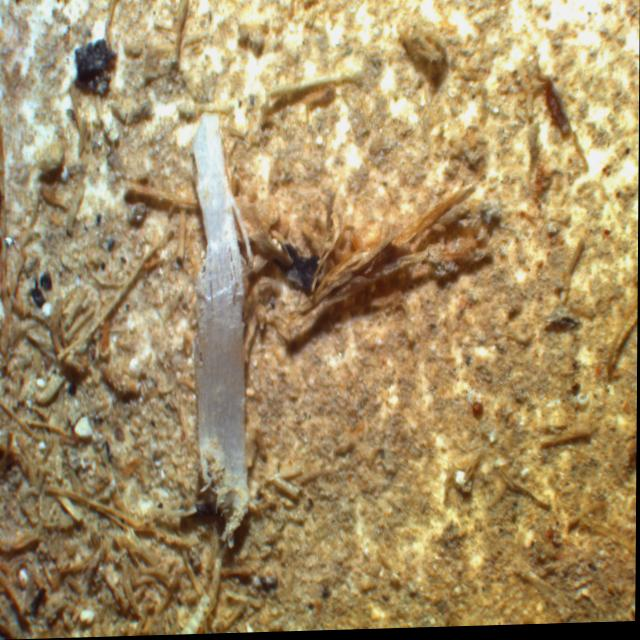microplastic: (187, 113, 252, 503)
